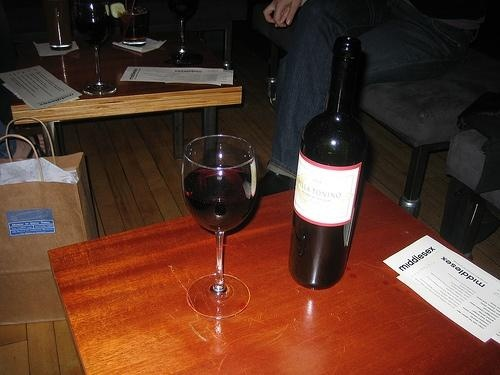bottle: (290, 28, 367, 298)
